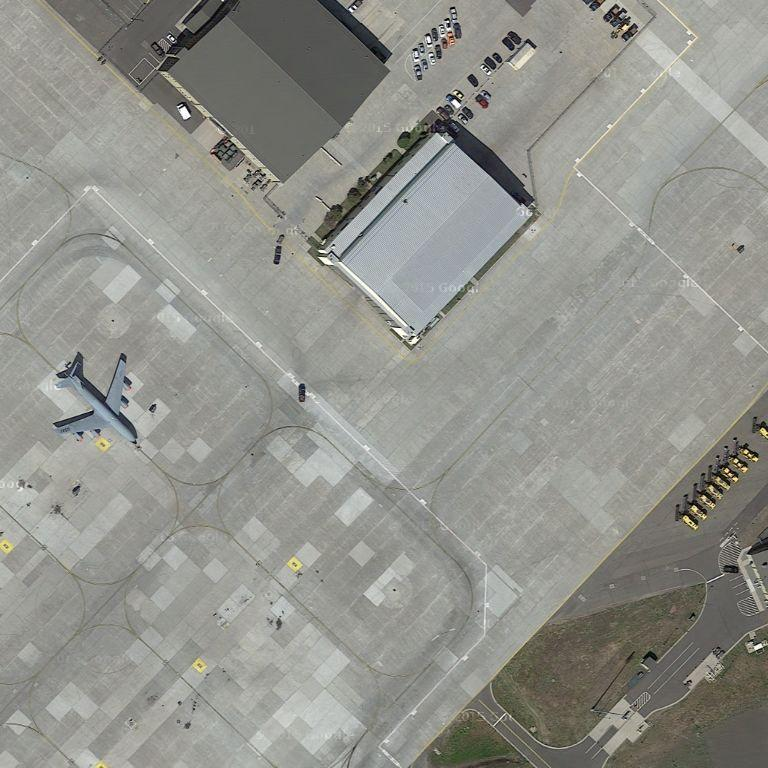KC-135: (48, 351, 145, 449)
